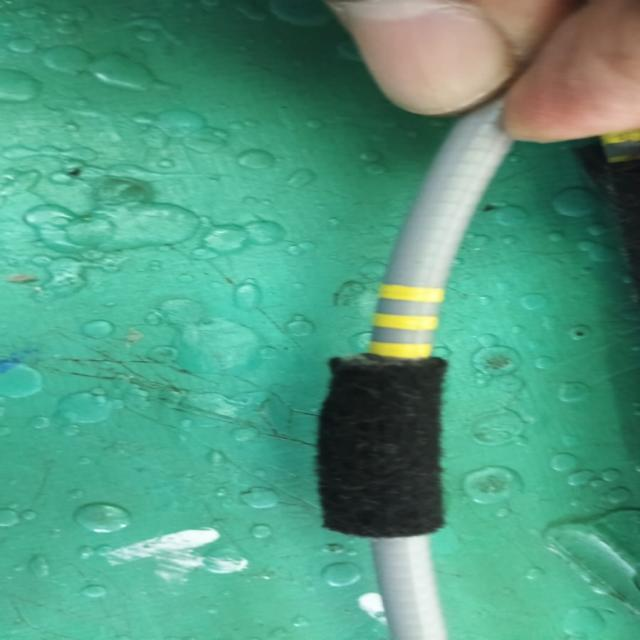yellow: (374, 286, 436, 359)
